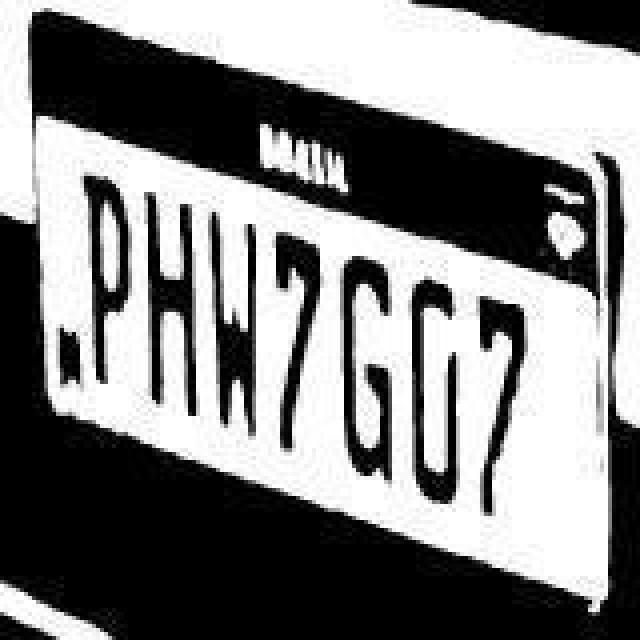7: (476, 286, 540, 538), (272, 230, 328, 466)
D: (408, 268, 472, 524)
G: (336, 250, 400, 494)
H: (140, 192, 212, 432)
P: (82, 172, 142, 412)
W: (212, 212, 268, 460)
